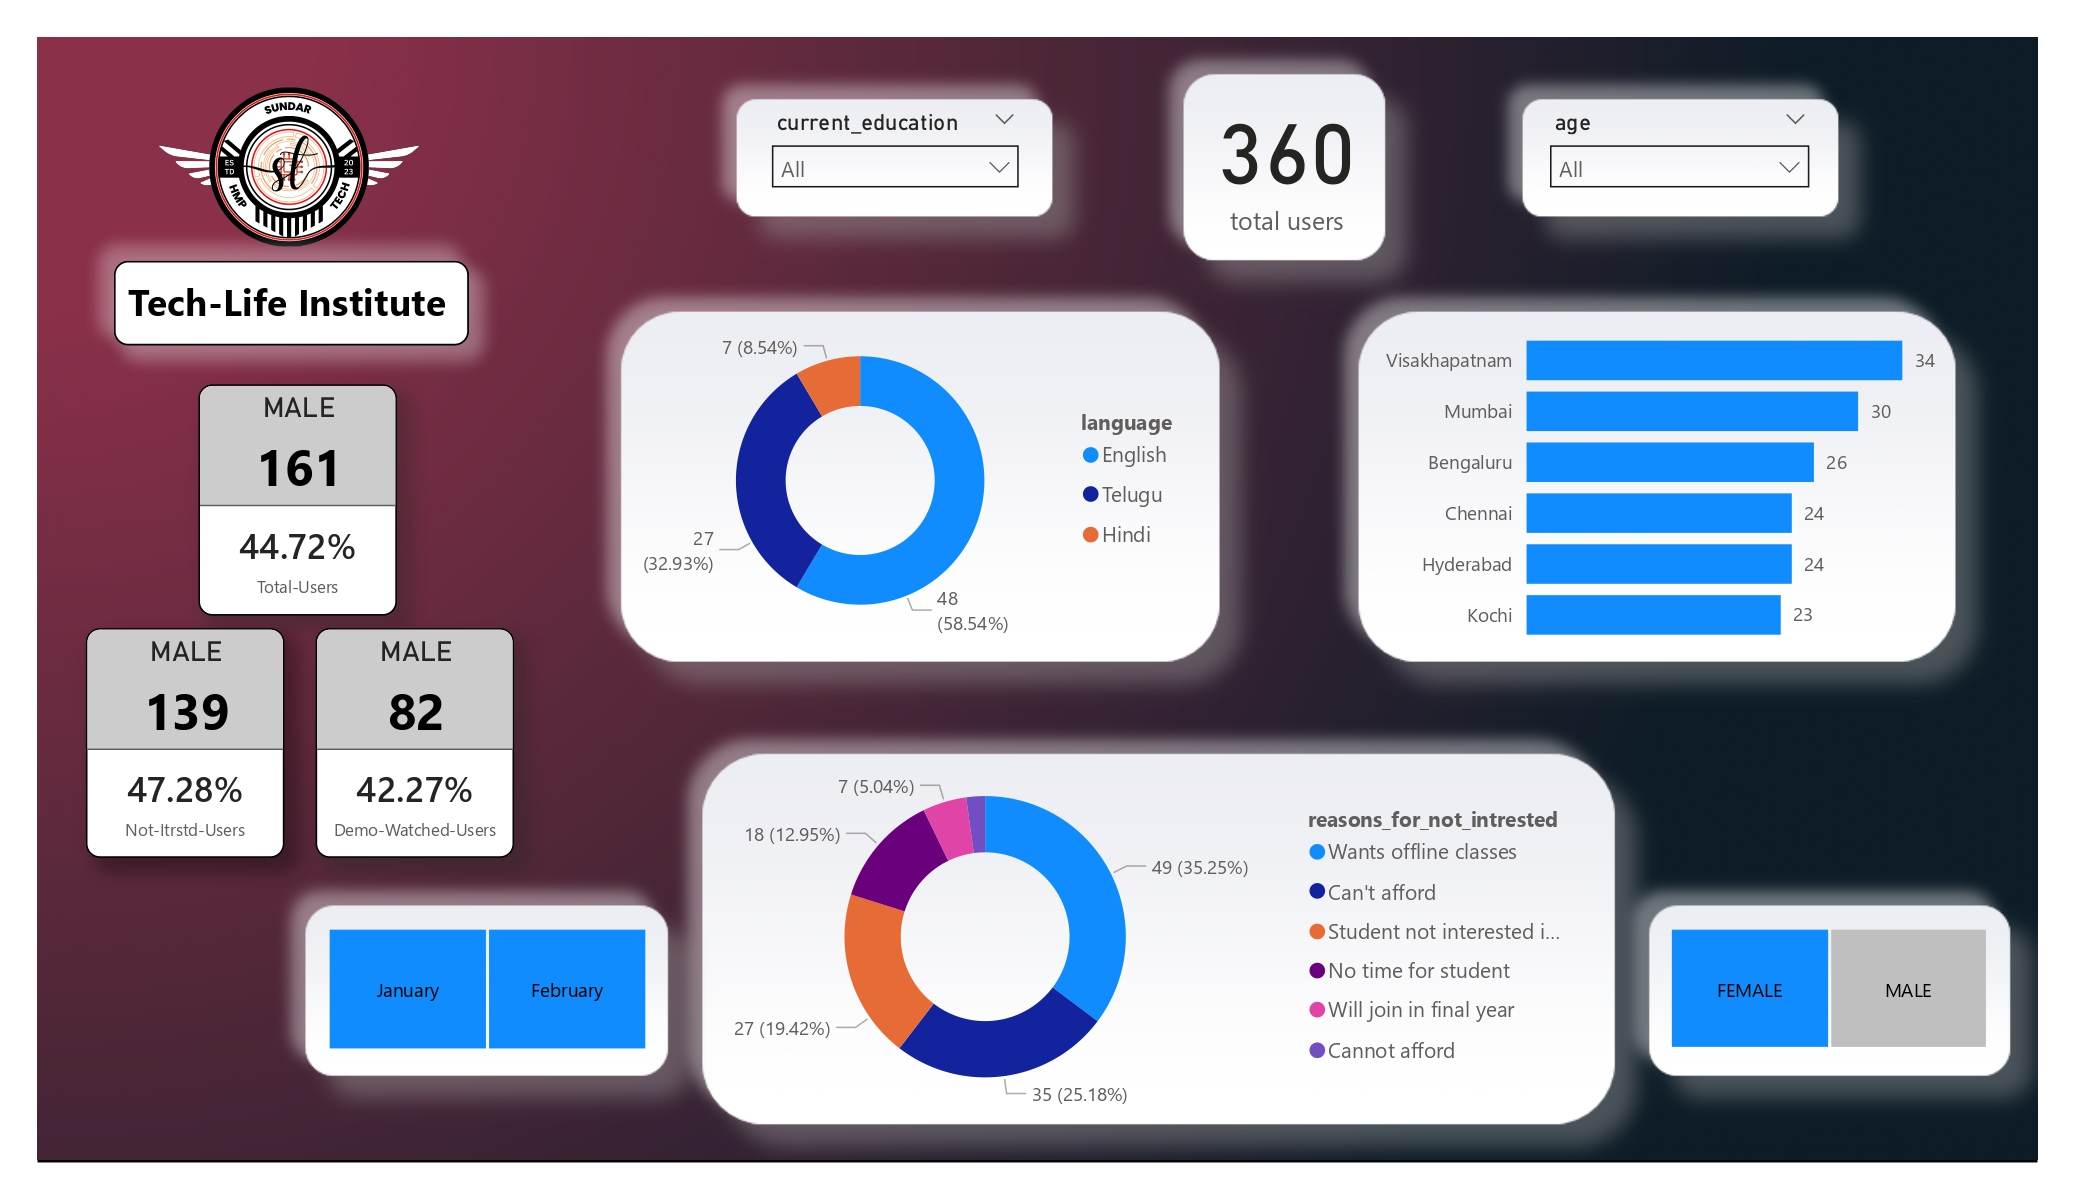

This screenshot's page, from the dashboard's own definition file:
{"tool":"powerbi","page":{"name":"Users performance","canvas":[1280,720],"ordinal":0},"visuals":[{"type":"card","fields":{"Values":["Table.switch"]},"box":[102.5,221.5,127.5,148.8],"z":0},{"type":"clusteredBarChart","fields":{"Category":["leads_basic_details.current_city"],"Y":["Table.total users"]},"box":[851.2,167.5,370,233.8],"z":1000},{"type":"slicer","fields":{"Values":["leads_basic_details.current_education"]},"box":[460.4,41.5,177.8,75.9],"z":2000},{"type":"slicer","fields":{"Values":["leads_basic_details.age"]},"box":[957.8,41.5,186.1,77],"z":3000},{"type":"donutChart","fields":{"Category":["leads_demo_watched_details.language"],"Y":["leads_demo_watched_details.lead_id"]},"box":[380,166.2,370,235],"z":4000},{"type":"card","fields":{"Values":["Table.watch percentage"]},"box":[177.5,377.8,127.5,147.5],"z":5000},{"type":"donutChart","fields":{"Category":["leads_reasons_for_no_interest.reasons_for_not_interested_in_demo"],"Y":["leads_reasons_for_no_interest.lead_id"]},"box":[394.7,451.6,600.9,247.7],"z":6000},{"type":"card","fields":{"Values":["Table.total users"]},"box":[724.7,14.2,149.3,129.2],"z":7000},{"type":"slicer","fields":{"Values":["leads_basic_details.gender"]},"box":[1020.4,565.3,251.3,90.1],"z":8000},{"type":"slicer","fields":{"Values":["leads_demo_watched_details.Month"]},"box":[161.2,563.8,251.2,90],"z":9000},{"type":"card","fields":{"Values":["Table.no interest percentage"]},"box":[31.2,377.8,126.2,147.5],"z":10000},{"type":"textbox","box":[49,143,227,54],"z":11000},{"type":"image","box":[39,0,244,166],"z":12000},{"type":"textbox","box":[49,143,227,54],"z":13000}]}

Visuals, with their boxes on the page's 1280x720 design canvas (x1, y1, x2, y2). These are canvas units, not pixel positions in the 2075x1200 screenshot, which may show the page scaled, cropped or inside an application window:
card - Table.switch: region(102, 222, 230, 370)
clusteredBarChart - leads_basic_details.current_city x Table.total users: region(851, 168, 1221, 401)
slicer - leads_basic_details.current_education: region(460, 42, 638, 117)
slicer - leads_basic_details.age: region(958, 42, 1144, 118)
donutChart - leads_demo_watched_details.language x leads_demo_watched_details.lead_id: region(380, 166, 750, 401)
card - Table.watch percentage: region(178, 378, 305, 525)
donutChart - leads_reasons_for_no_interest.reasons_for_not_interested_in_demo x leads_reasons_for_no_interest.lead_id: region(395, 452, 996, 699)
card - Table.total users: region(725, 14, 874, 143)
slicer - leads_basic_details.gender: region(1020, 565, 1272, 655)
slicer - leads_demo_watched_details.Month: region(161, 564, 412, 654)
card - Table.no interest percentage: region(31, 378, 157, 525)
textbox: region(49, 143, 276, 197)
image: region(39, 0, 283, 166)
textbox: region(49, 143, 276, 197)
